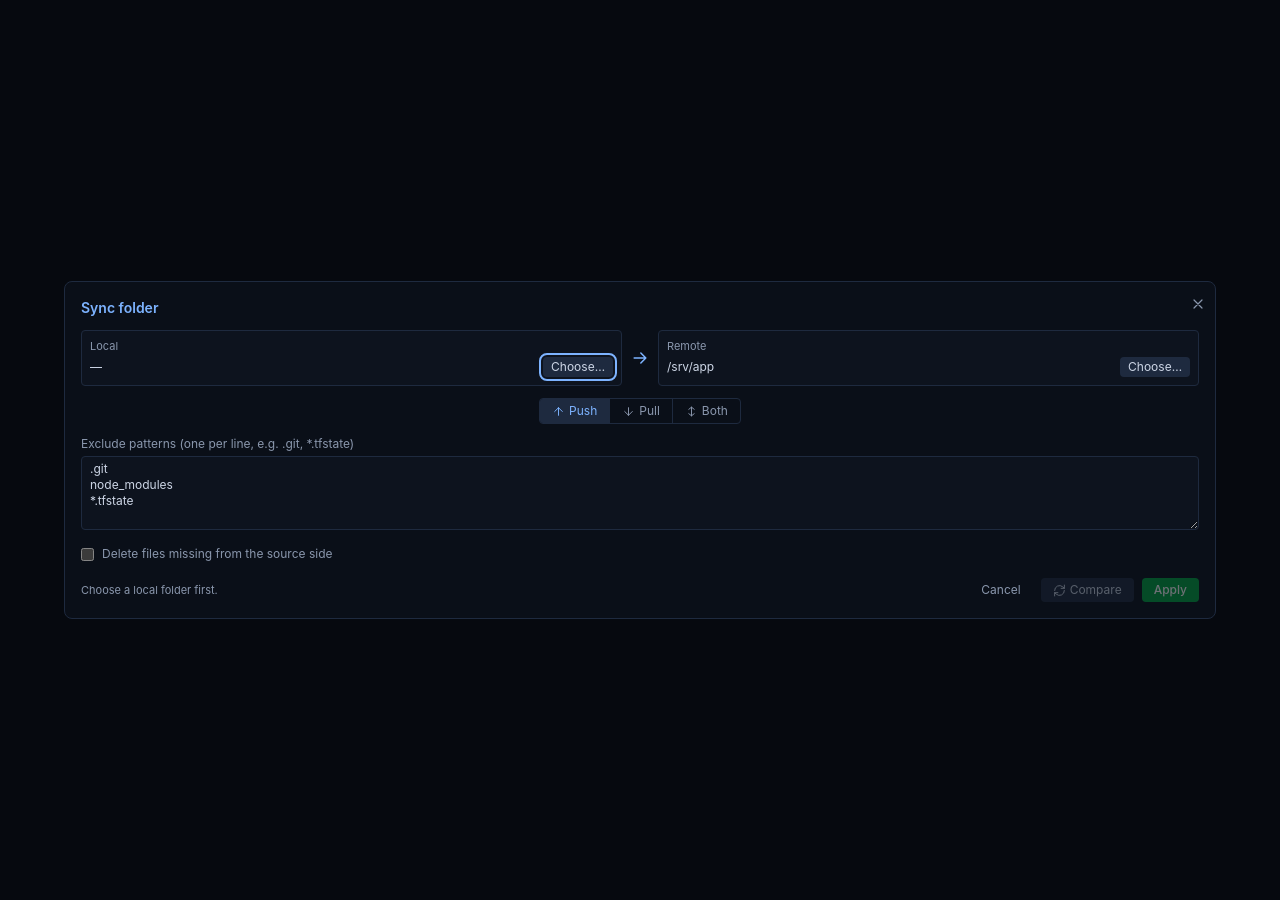
SyncModal › stays open after a stop and reports what got through
The image size is (1280, 900).
What coordinates should you click on to do the following:
click the button with aria-label "Choose local folder"
I would click on:
 (578, 367)
Its box is [543, 357, 613, 377].
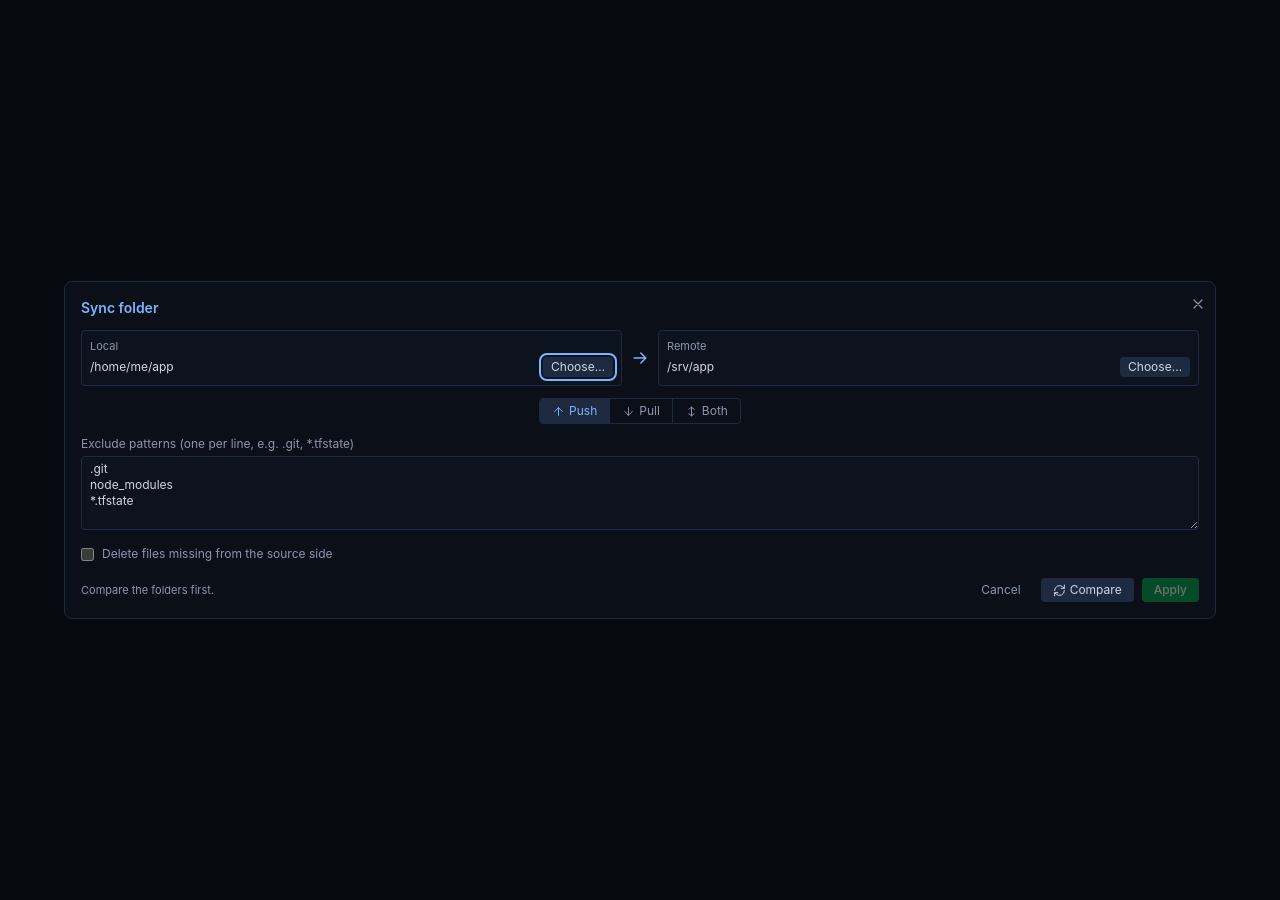
What coordinates should you click on to do the following:
click the button "Compare"
I would click on:
 (1087, 590)
Its box is [1041, 578, 1134, 602].
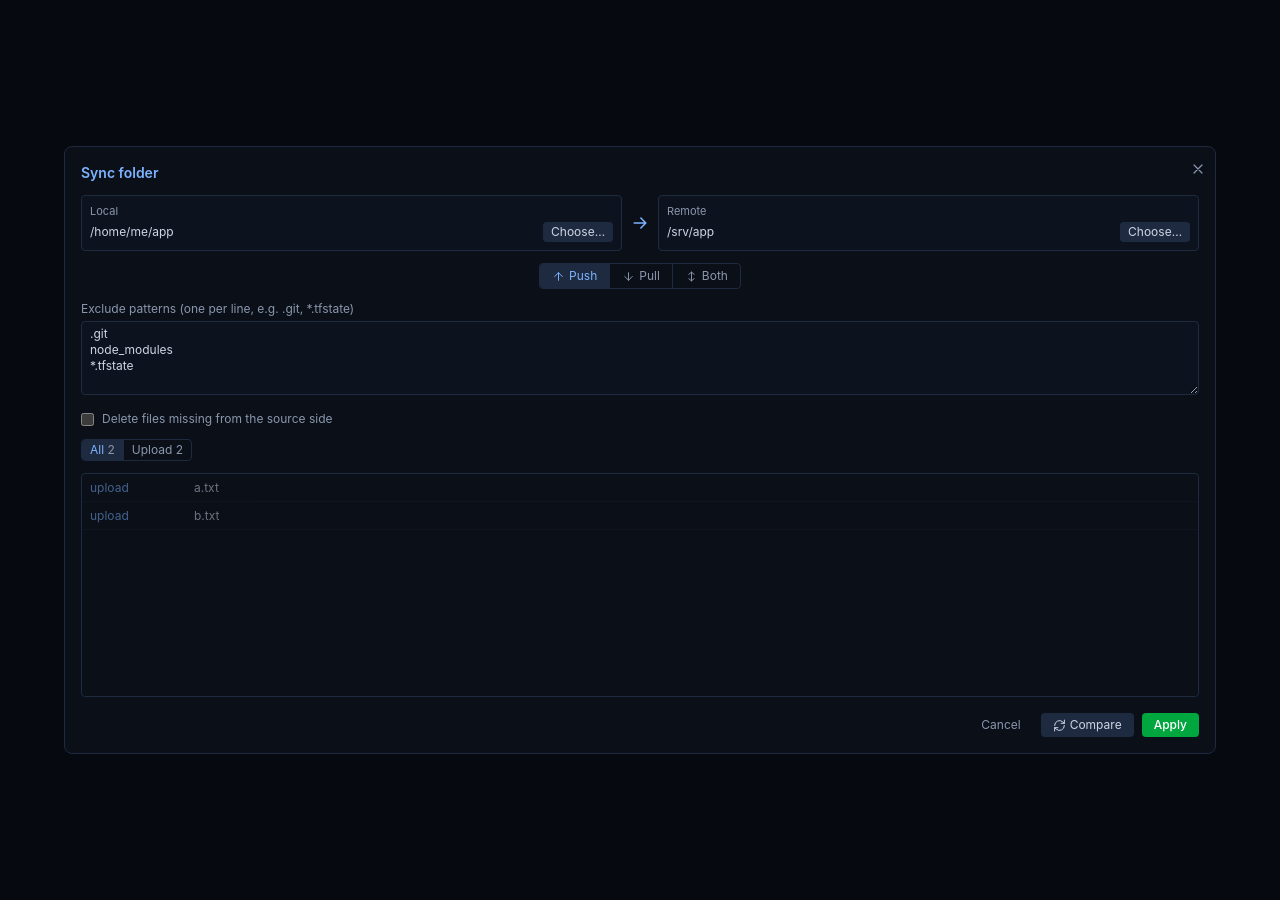
Expected: the text titled "a.txt" is shown, [194, 480, 219, 495]
What coordinates should you click on to do the following:
click the button "Apply"
I would click on:
 (1170, 725)
Its box is [1142, 713, 1199, 737].
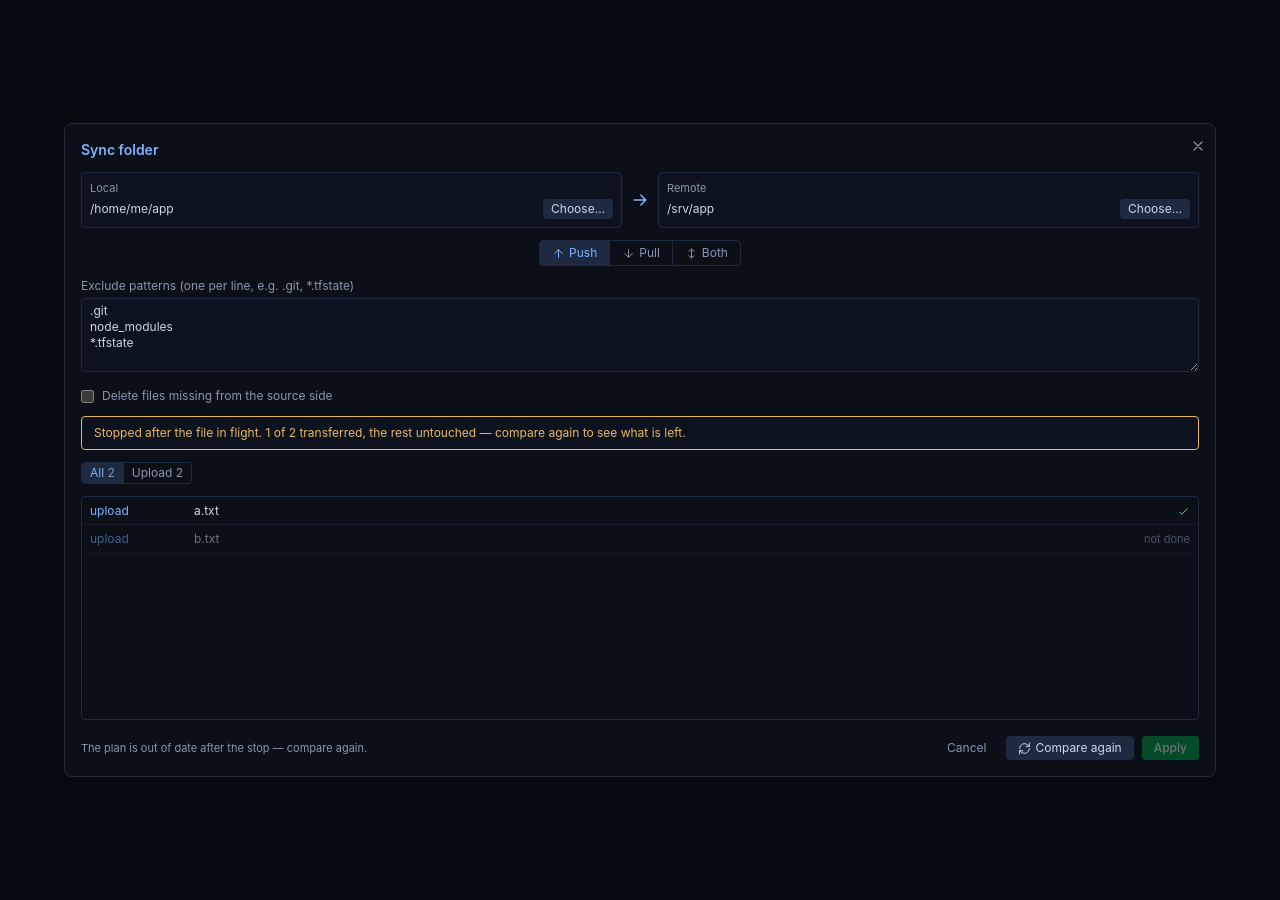
Expected: the text "Stopped after the file in flight" is shown, [94, 425, 686, 440]
Expected: the text "not done" is shown, [1144, 532, 1190, 546]
Expected: the button "Compare again" is shown, [1006, 736, 1134, 760]
